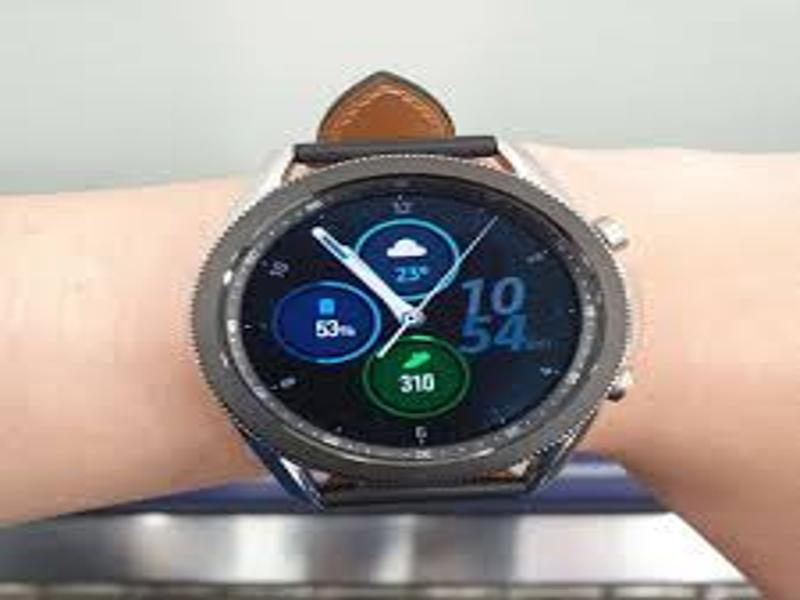watch: (182, 81, 644, 513)
